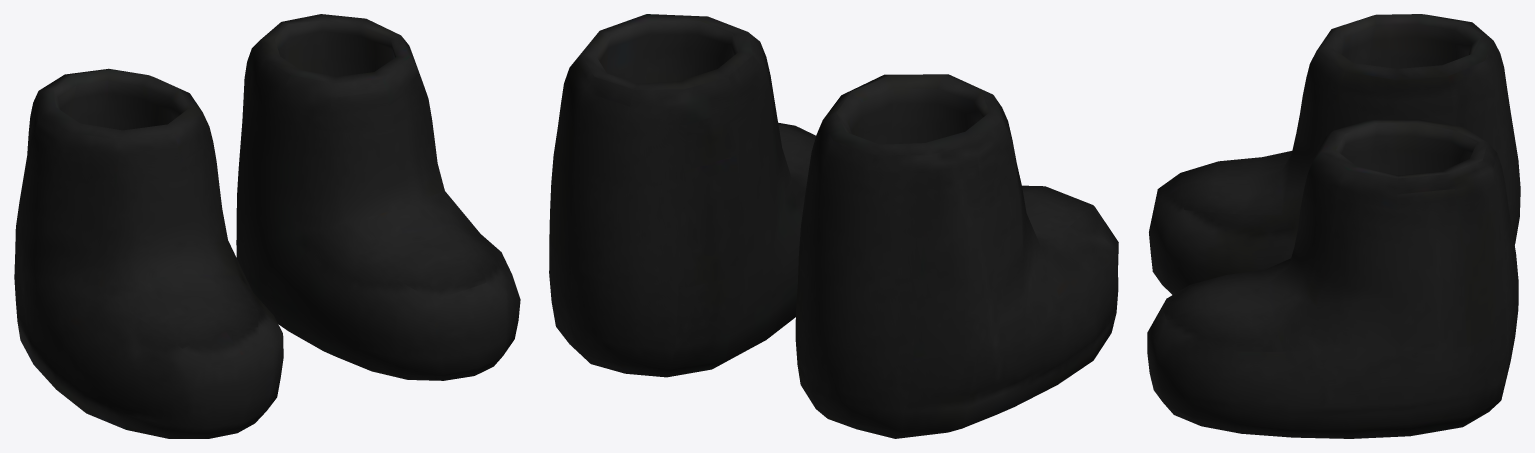
The model's file is Hirono Shoes1.glb.
3 renders of one model, left to right at view 1: azimuth 30°, elevation 25°; view 2: azimuth 150°, elevation 25°; view 3: azimuth 270°, elevation 25°, orthographic. The views are drawn at different scales.
Visible parts, largest first — view 1: tripo_node_24d48bc7.002, tripo_node_24d48bc7.001; view 2: tripo_node_24d48bc7.002, tripo_node_24d48bc7.001; view 3: tripo_node_24d48bc7.001, tripo_node_24d48bc7.002.
Part boxes in pixels (x1,y1,x2,y2): tripo_node_24d48bc7.002: [14, 68, 283, 438]; tripo_node_24d48bc7.001: [236, 14, 520, 380]; tripo_node_24d48bc7.002: [795, 74, 1118, 438]; tripo_node_24d48bc7.001: [549, 14, 815, 377]; tripo_node_24d48bc7.001: [1147, 119, 1518, 438]; tripo_node_24d48bc7.002: [1149, 14, 1520, 294].
Size of the model in its own units: 0.3622 by 0.2142 by 0.2839.
Materials: 1 (1 with a texture image).
